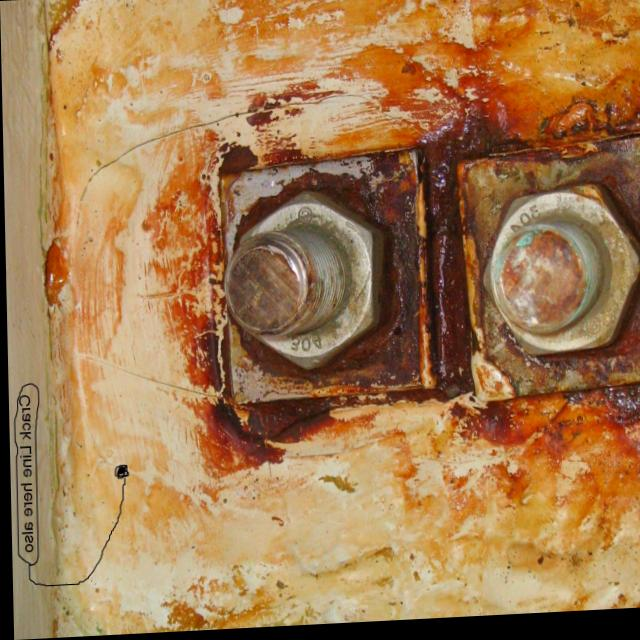Rusty bolt: (224, 195, 385, 376), (478, 192, 637, 361)
